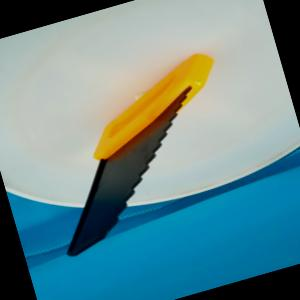serrote: (20, 46, 258, 258)
